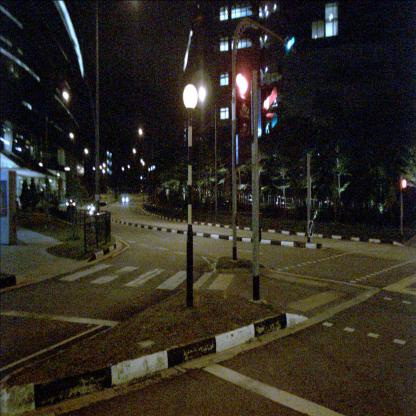vehicle-car: (66, 199, 76, 212), (122, 196, 129, 204)
